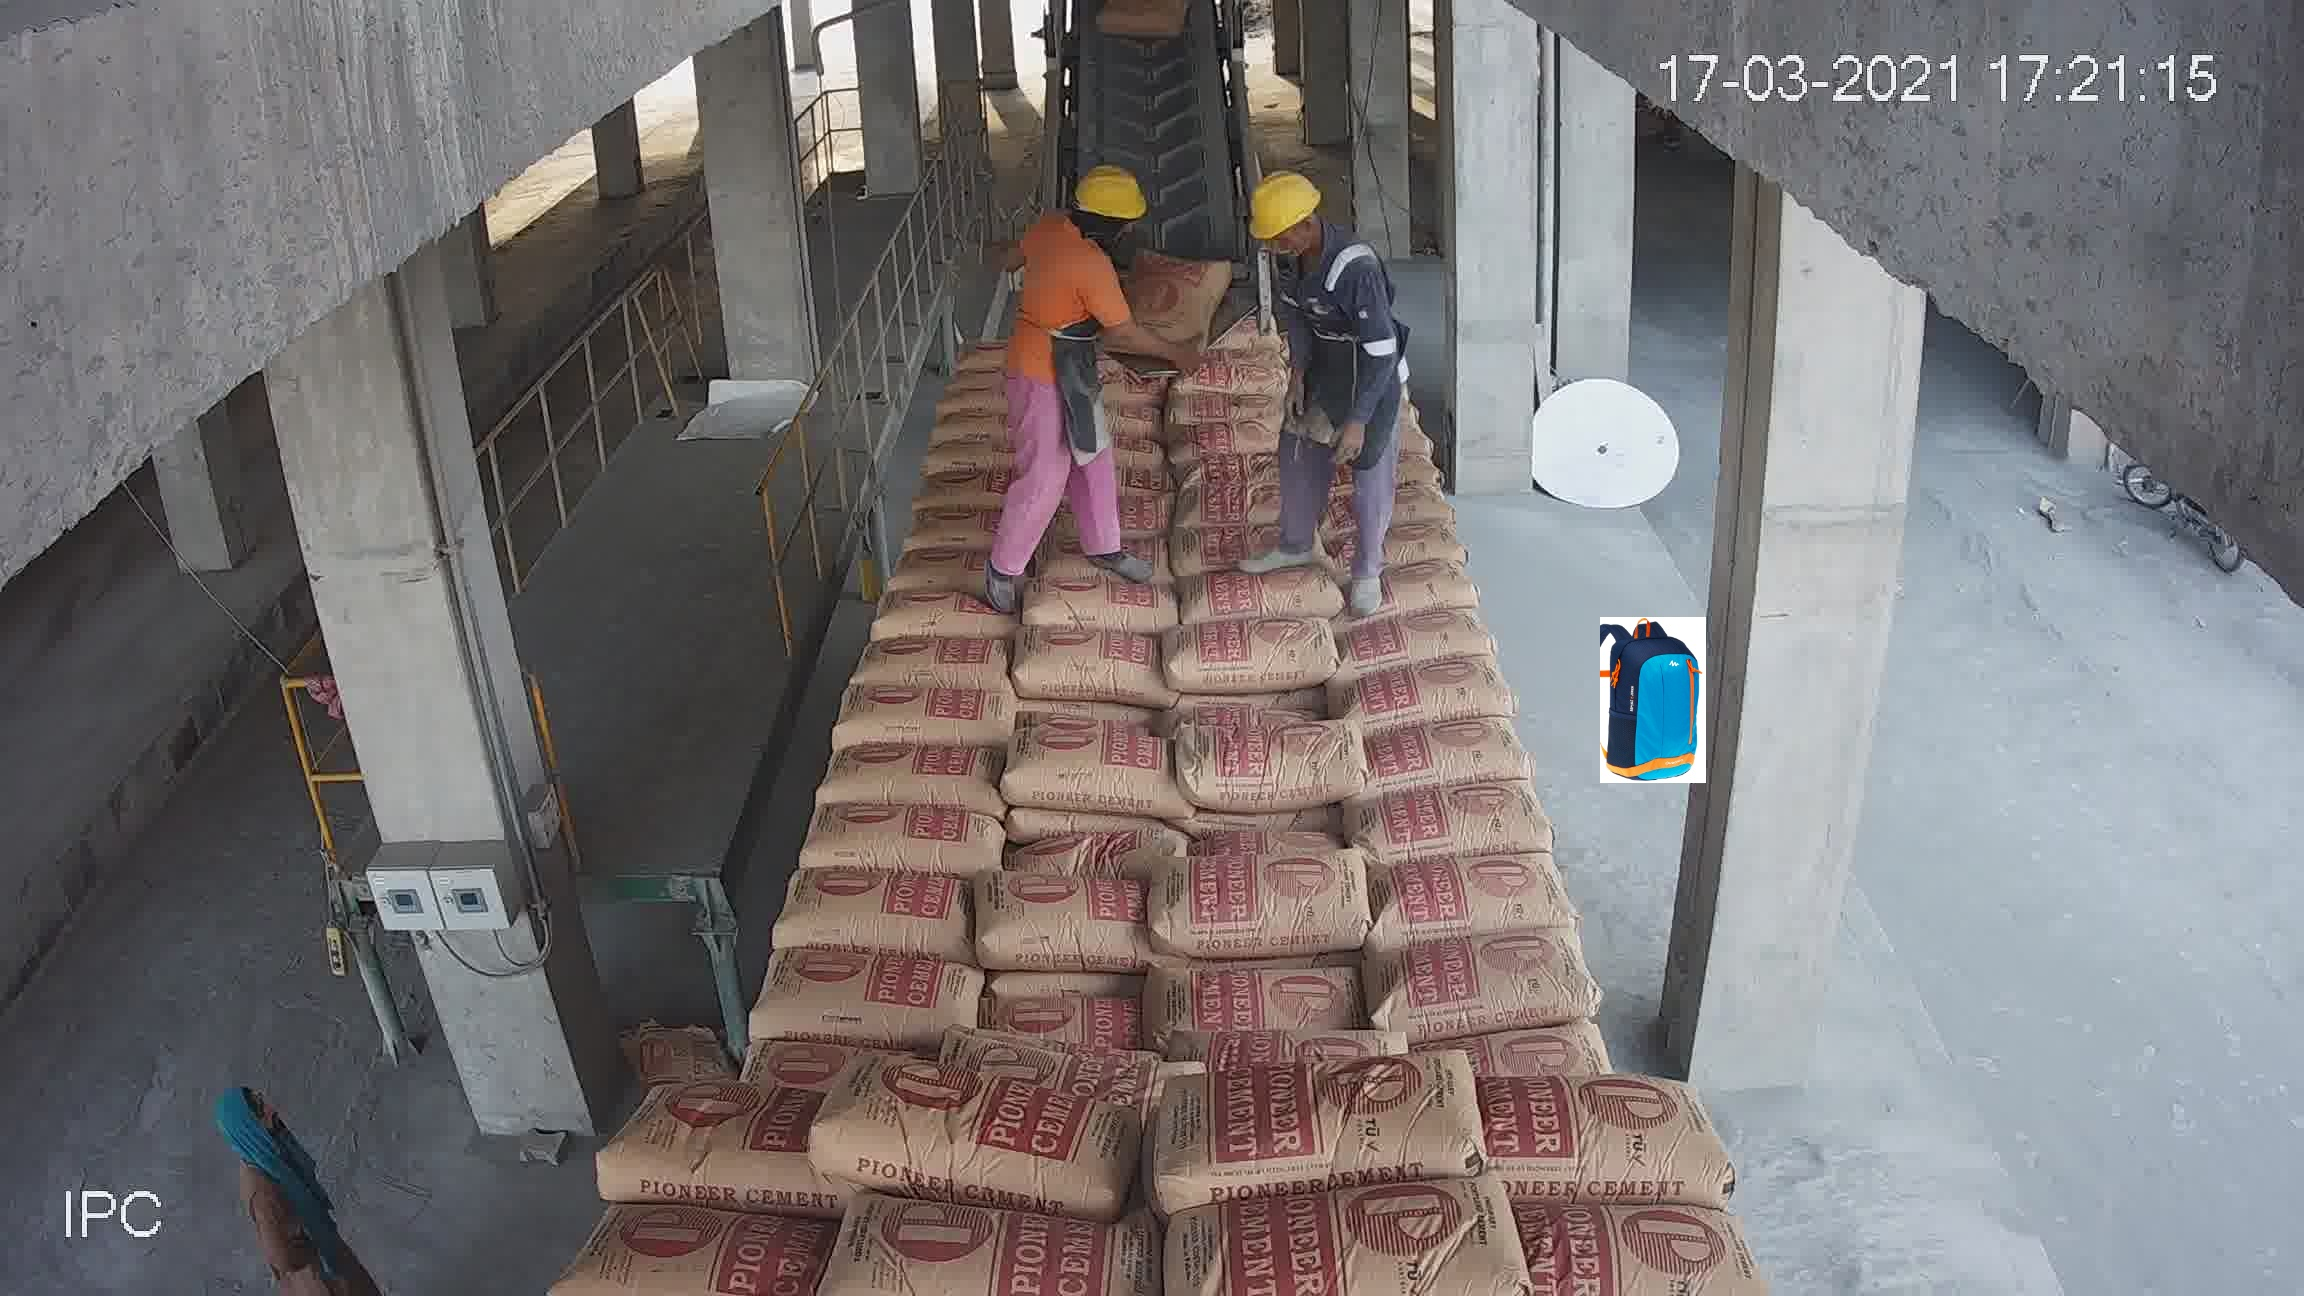bag_h: (1169, 1022, 1500, 1218), (813, 1060, 1147, 1218), (1161, 1166, 1563, 1296), (1136, 927, 1429, 1073), (896, 832, 1171, 976), (1467, 1065, 1750, 1204), (1152, 829, 1438, 961), (785, 1184, 1192, 1274), (896, 930, 1135, 1081), (1136, 715, 1375, 855), (582, 1071, 812, 1214), (630, 957, 878, 1086), (1437, 961, 1673, 1092), (1541, 1187, 1798, 1290), (684, 859, 919, 970), (1355, 753, 1593, 862), (1418, 848, 1635, 967), (551, 1195, 821, 1287), (711, 774, 926, 881), (907, 767, 1146, 858), (815, 677, 964, 747), (1388, 707, 1556, 767), (771, 720, 919, 783), (1014, 665, 1169, 725), (839, 635, 975, 690), (1040, 573, 1196, 619), (1185, 506, 1294, 571), (1400, 658, 1514, 718), (1410, 593, 1497, 668), (1038, 612, 1157, 665), (1165, 623, 1264, 673), (1173, 573, 1264, 612)
belt: (1032, 17, 1282, 465)
